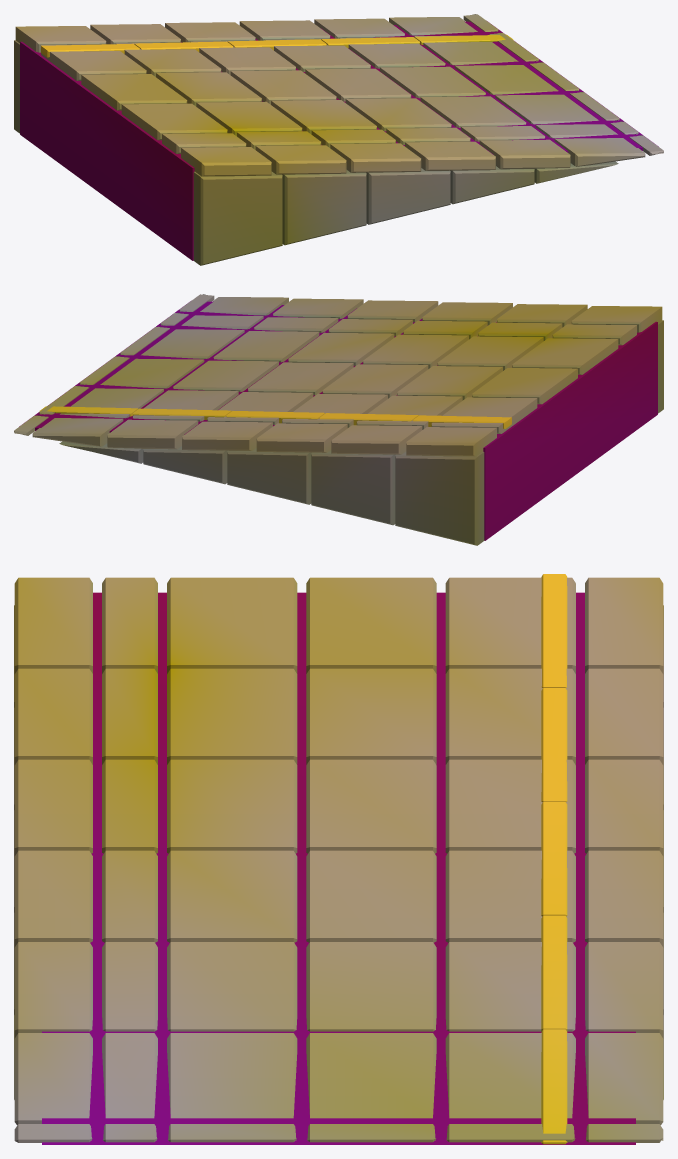
File: Platform_Ramp_End.glb
3 renders of one model, top to bottom at view 1: azimuth 30°, elevation 25°; view 2: azimuth 150°, elevation 25°; view 3: azimuth 270°, elevation 25°, orthographic. The views are drawn at different scales.
Parts seen in each view (by area): view 1: Platform_Ramp_End; view 2: Platform_Ramp_End; view 3: Platform_Ramp_End.
Boxes of the visible parts, <box> form: Platform_Ramp_End: <box>14,14,663,265</box>; Platform_Ramp_End: <box>14,294,663,545</box>; Platform_Ramp_End: <box>14,574,663,1144</box>.
Bounding box in the file's own units: 5 × 1.06 × 3.5.
